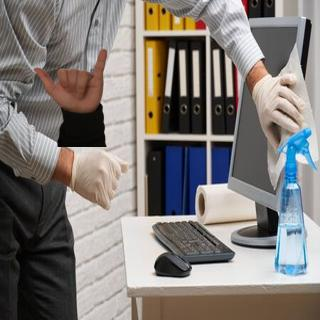HAVE: (31, 46, 110, 118)
